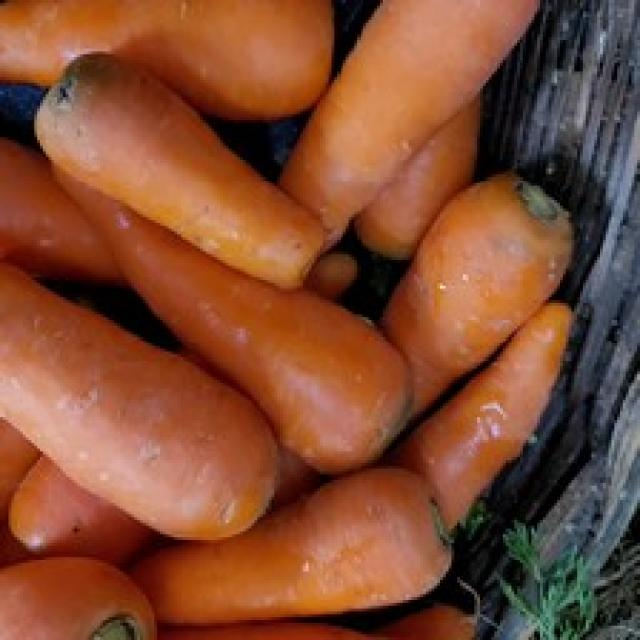Fresh_Carrot: (50, 150, 420, 471), (5, 256, 278, 534), (299, 7, 540, 186)
